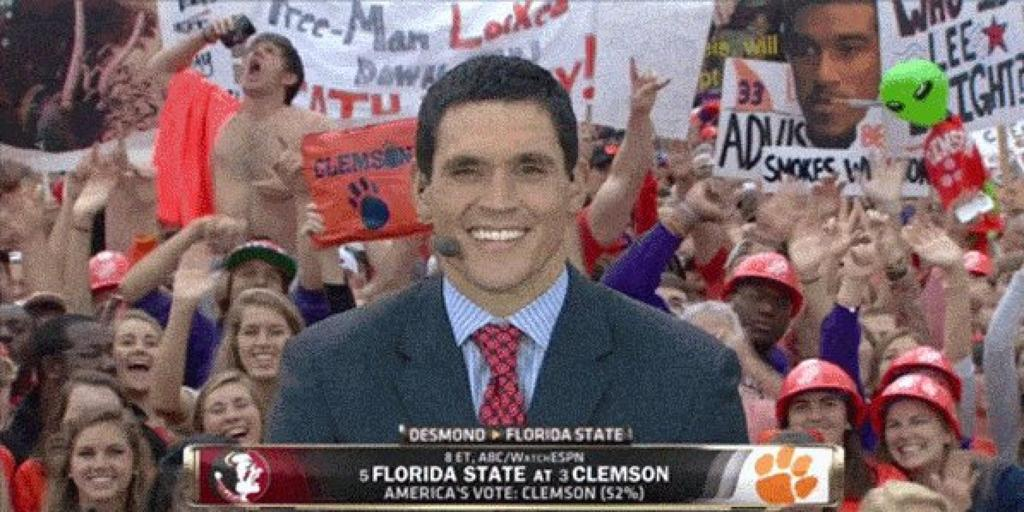face: (434, 106, 566, 290), (790, 16, 878, 135), (885, 406, 943, 467), (238, 313, 292, 378), (75, 436, 130, 499), (206, 393, 262, 453), (232, 260, 283, 321), (789, 394, 846, 447), (740, 283, 789, 342), (67, 394, 118, 448), (113, 329, 158, 389), (243, 47, 281, 91)
